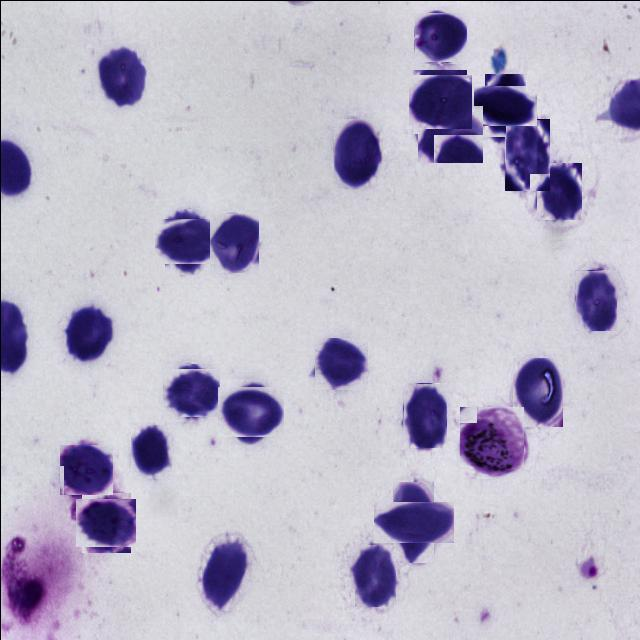gametocyte: (458, 408, 526, 476)
red blood cell: (417, 104, 482, 162), (382, 491, 443, 552), (512, 358, 562, 428), (333, 118, 382, 188), (221, 382, 280, 440), (409, 72, 468, 130), (94, 44, 146, 109), (504, 118, 549, 190), (202, 544, 250, 610), (158, 214, 214, 268), (208, 212, 258, 272), (78, 495, 132, 549), (350, 543, 396, 606), (402, 382, 446, 447), (63, 303, 113, 360), (164, 366, 217, 419), (58, 444, 112, 496), (314, 337, 366, 389), (478, 78, 530, 130), (414, 10, 465, 62), (536, 162, 581, 219), (574, 269, 616, 330), (130, 424, 171, 478)
